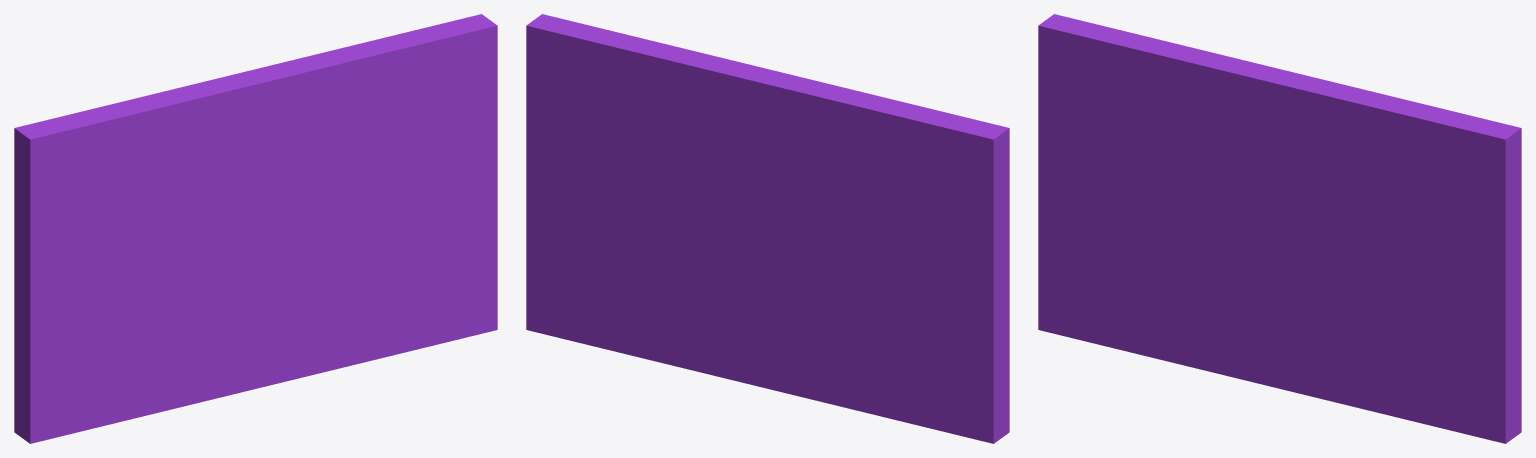
File: Barrier_99_chunks.fbx
3 renders of one model, left to right at view 1: azimuth 30°, elevation 25°; view 2: azimuth 150°, elevation 25°; view 3: azimuth 330°, elevation 25°, orthographic.
Visible parts, largest first — view 1: Barrier_99_1, Barrier_99_2, Barrier_99_0, Barrier_99_5, Barrier_99_6, Barrier_99_3, Barrier_99_4; view 2: Barrier_99_2, Barrier_99_1, Barrier_99_0, Barrier_99_3, Barrier_99_4, Barrier_99_6, Barrier_99_5; view 3: Barrier_99_2, Barrier_99_1, Barrier_99_0, Barrier_99_6, Barrier_99_5, Barrier_99_3, Barrier_99_4.
Part boxes in pixels (box(x1,y1,x2,y2)): Barrier_99_1: box(14, 155, 270, 443); Barrier_99_2: box(223, 14, 497, 240); Barrier_99_0: box(14, 73, 241, 206); Barrier_99_5: box(241, 279, 454, 392); Barrier_99_6: box(321, 217, 497, 293); Barrier_99_3: box(200, 235, 335, 402); Barrier_99_4: box(419, 287, 497, 340); Barrier_99_2: box(526, 14, 815, 226); Barrier_99_1: box(782, 144, 1009, 443); Barrier_99_0: box(745, 81, 1009, 261); Barrier_99_3: box(681, 221, 846, 407); Barrier_99_4: box(526, 260, 706, 366); Barrier_99_6: box(526, 203, 697, 273); Barrier_99_5: box(676, 327, 754, 385); Barrier_99_2: box(1231, 68, 1521, 331); Barrier_99_1: box(1038, 41, 1279, 371); Barrier_99_0: box(1038, 14, 1277, 187); Barrier_99_6: box(1330, 264, 1521, 401); Barrier_99_5: box(1249, 314, 1461, 433); Barrier_99_3: box(1208, 244, 1343, 381); Barrier_99_4: box(1427, 363, 1521, 443).
Size of the model in its own units: 462 by 288 by 27.2.
